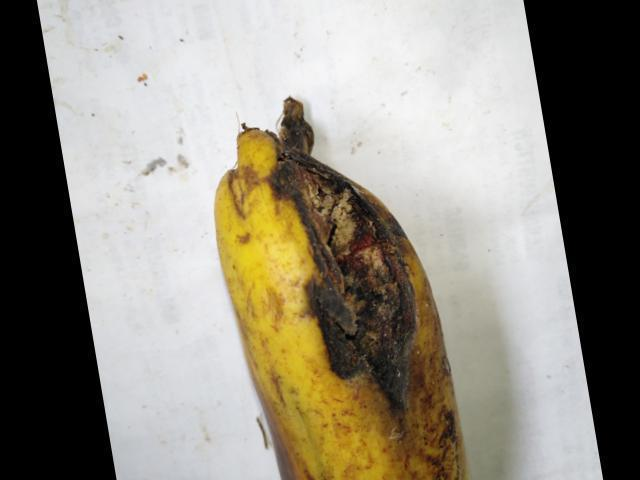ripe: (187, 119, 503, 479)
rotten: (241, 90, 436, 391)
